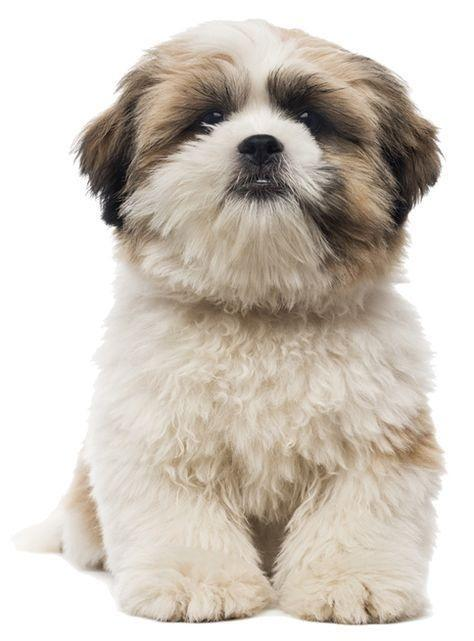puppy-dog: (13, 18, 449, 628)
